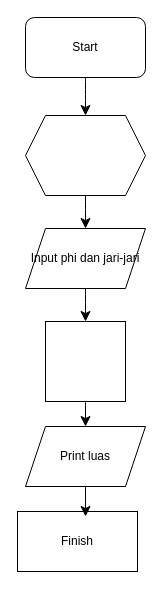
This 163x589 diagram has some shape labels left out. The centre of each missing label's shape, as x and y in pixels:
"Luas = phi * jari-jari * jari-jari" belongs at [85,361].
"Phi = 3,14" belongs at [85,155].
